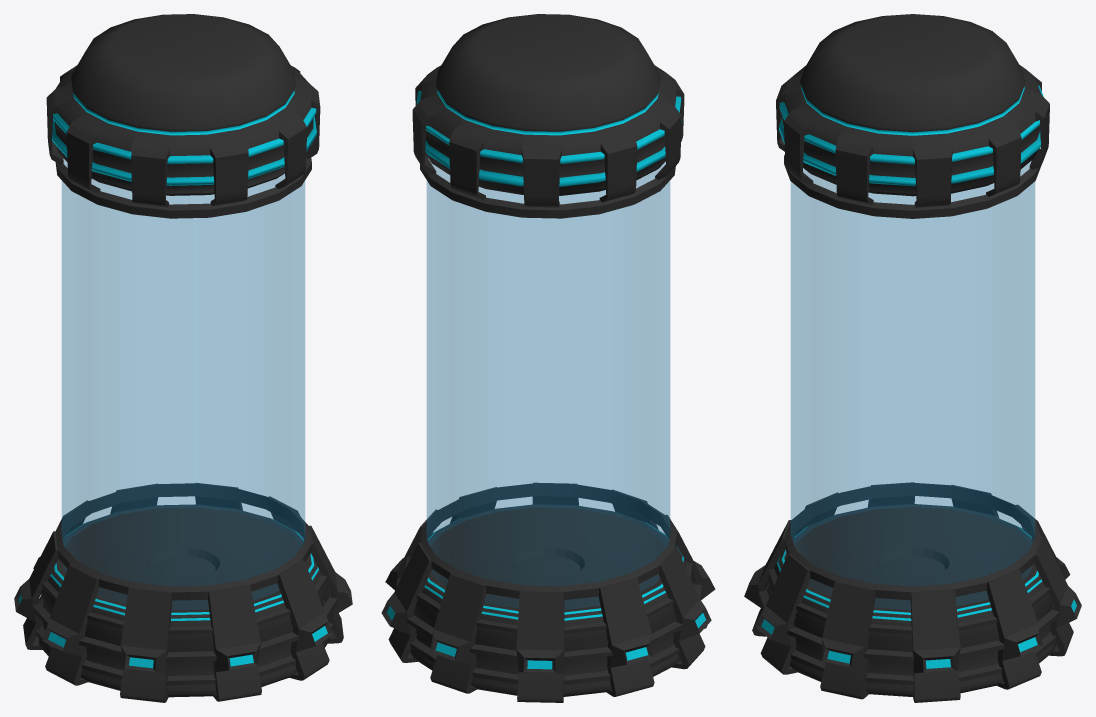
File: SM_decor_watertank.fbx
The picture shows the model from 3 angles, left to right: view 1: azimuth 30°, elevation 25°; view 2: azimuth 150°, elevation 25°; view 3: azimuth 270°, elevation 25°; orthographic projection.
Parts seen in each view (by area): view 1: pCylinder4; view 2: pCylinder4; view 3: pCylinder4.
Boxes of the visible parts, left/top/right/bottom form: pCylinder4: left=14, top=14, right=352, bottom=702; pCylinder4: left=381, top=14, right=715, bottom=702; pCylinder4: left=744, top=14, right=1081, bottom=702.
Size of the model in its own units: 23.78 by 45.93 by 23.78.
